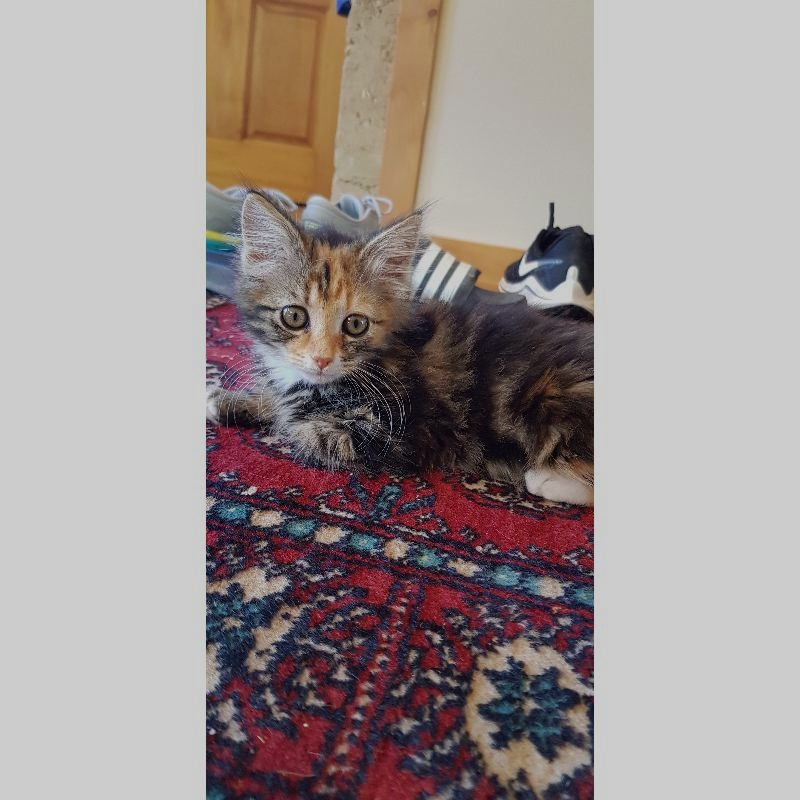red: (206, 188, 594, 502)
